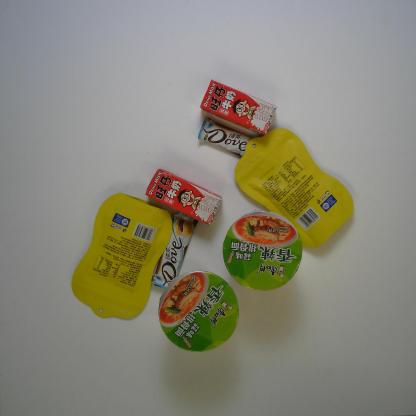Chocolate: (145, 208, 201, 294), (196, 116, 282, 167)
Dried Fruit: (233, 124, 358, 252), (69, 191, 172, 323)
Instant Noodles: (158, 270, 242, 355), (221, 210, 306, 292)
Milk: (142, 169, 226, 227), (198, 80, 277, 137)
